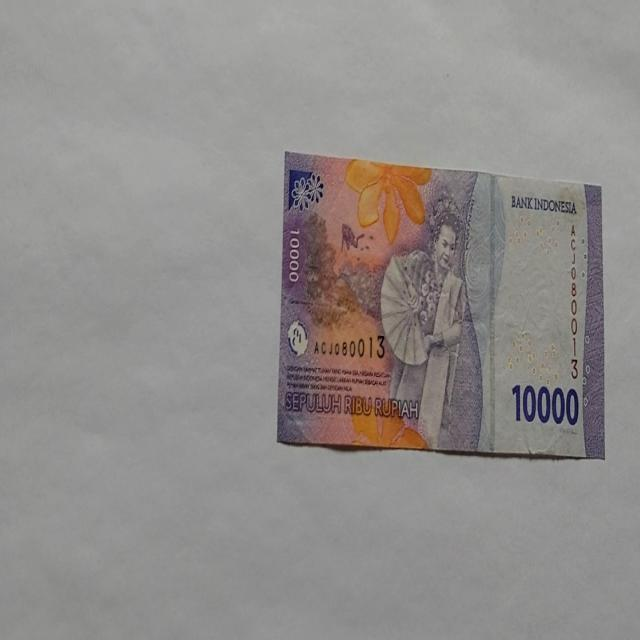sepuluh ribu rupiah: (276, 149, 604, 458)
